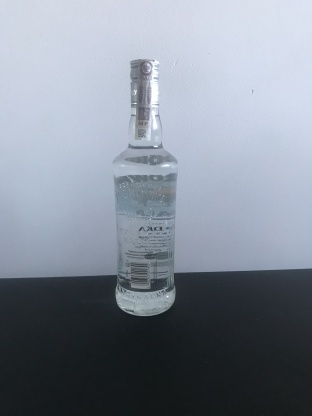nakretka: (127, 55, 161, 110)
